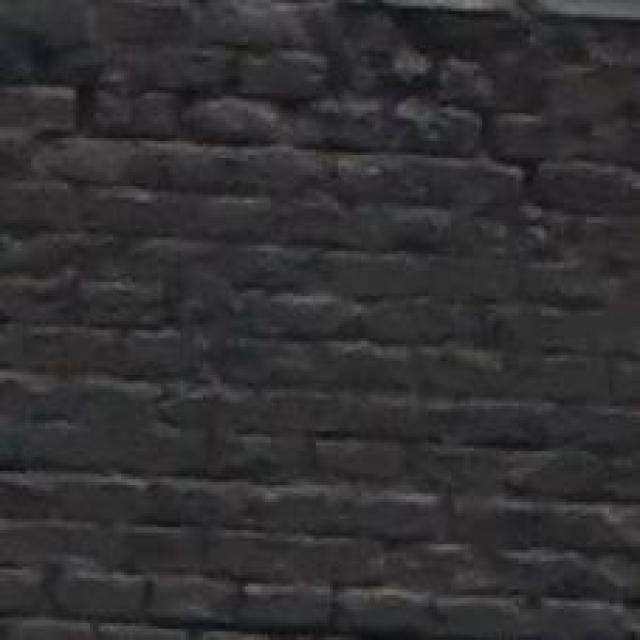Crack: (0, 0, 640, 243)
